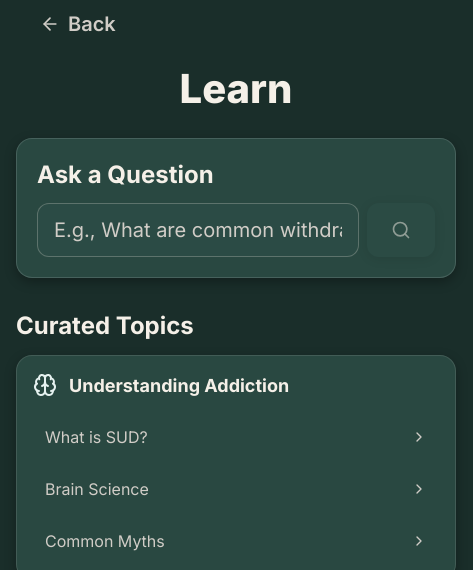
Scenario: Educational Resources › displays the answer after AI responds
In the field with placeholder "E.g., What are common withdrawal signs?": (198, 230) [37,203,359,257], type "What is addiction?"
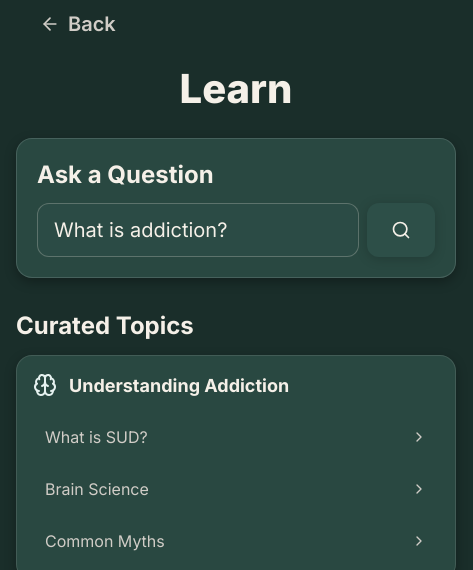
Click the button named "search": (401, 230) [367,203,435,257]
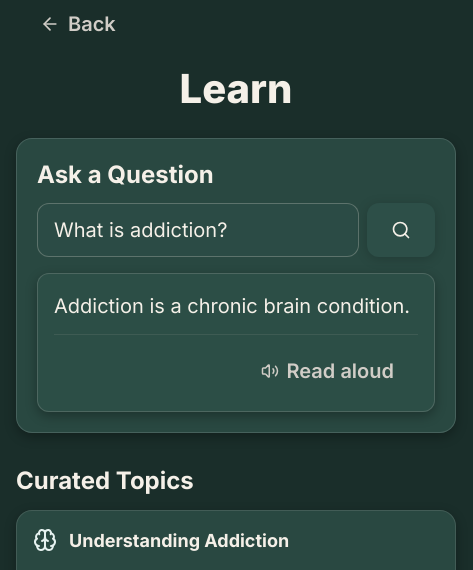
Check: the text "Addiction is a chronic brain condition." is shown, box [54,290,418,322]
